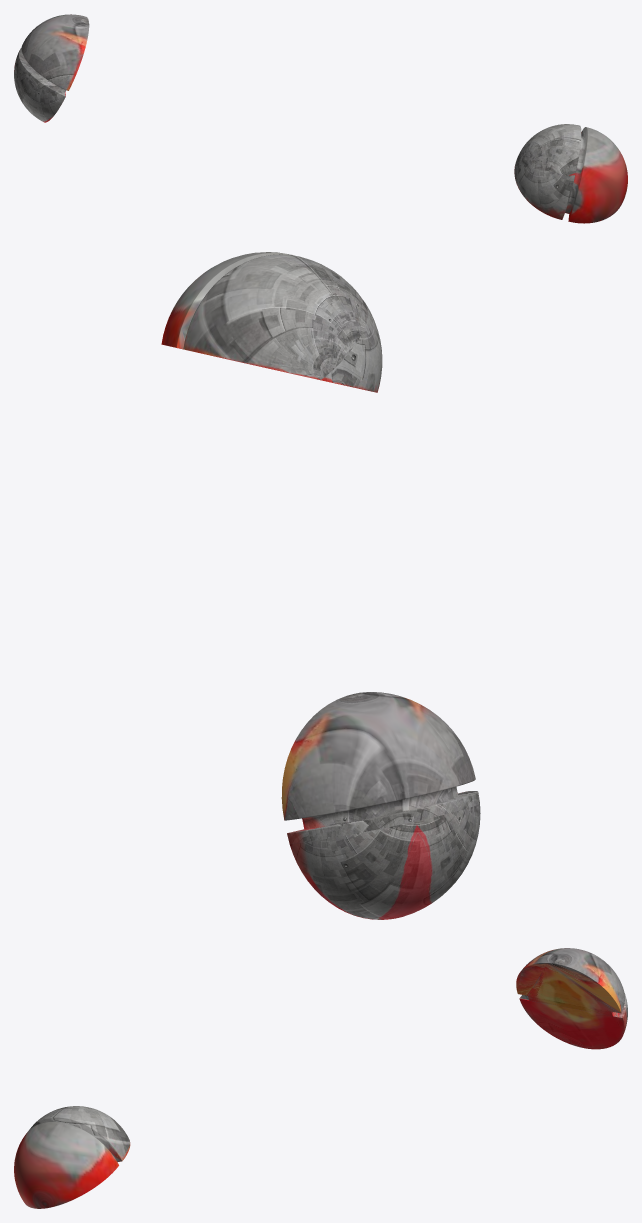
The model's file is Drone166_000048.obj.
The picture shows the model from 3 angles, top to bottom: view 1: azimuth 30°, elevation 25°; view 2: azimuth 150°, elevation 25°; view 3: azimuth 270°, elevation 25°; orthographic projection. The views are drawn at different scales.
Parts seen in each view (by area): view 1: Sphere.001_Sphere.005, Sphere.000_Sphere.004; view 2: Sphere.000_Sphere.004, Sphere.001_Sphere.005; view 3: Sphere.001_Sphere.005, Sphere.000_Sphere.004.
Part boxes in pixels (x1=…): Sphere.001_Sphere.005: x1=514, y1=124, x2=627, y2=223; Sphere.000_Sphere.004: x1=14, y1=14, x2=89, y2=122; Sphere.000_Sphere.004: x1=281, y1=692, x2=480, y2=919; Sphere.001_Sphere.005: x1=161, y1=252, x2=382, y2=392; Sphere.001_Sphere.005: x1=14, y1=1106, x2=130, y2=1208; Sphere.000_Sphere.004: x1=516, y1=948, x2=627, y2=1049.
Bounding box in the file's own units: 8.01 × 2 × 10.45.
Materials: 4 (4 with a texture image).
